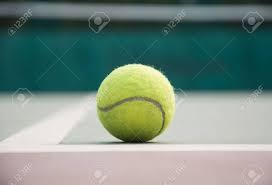tennis_ball: (95, 63, 177, 144)
